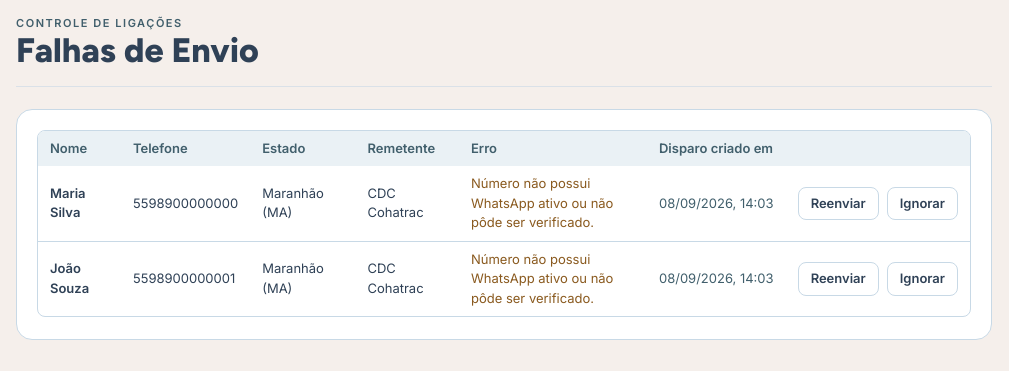
Test: FalhasEnvioPage › erro ao ignorar: mantém a linha e mostra a mensagem de erro inline, sem afetar outras linhas
This screenshot has width=1009, height=371.
Expected: the text "Maria Silva" is shown, [38,166,121,241]
Click the button "Ignorar" in the row of "Maria Silva" at (922, 203), box [887,186,958,220]
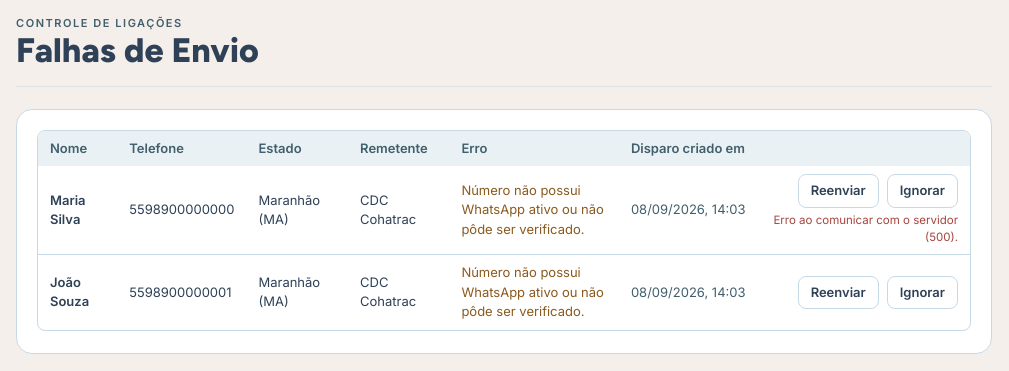
Expected: the text "Maria Silva" is shown, [38,166,117,254]
Result: the text "Erro ao comunicar com o servidor (500)." is shown at [770,212,958,246]
